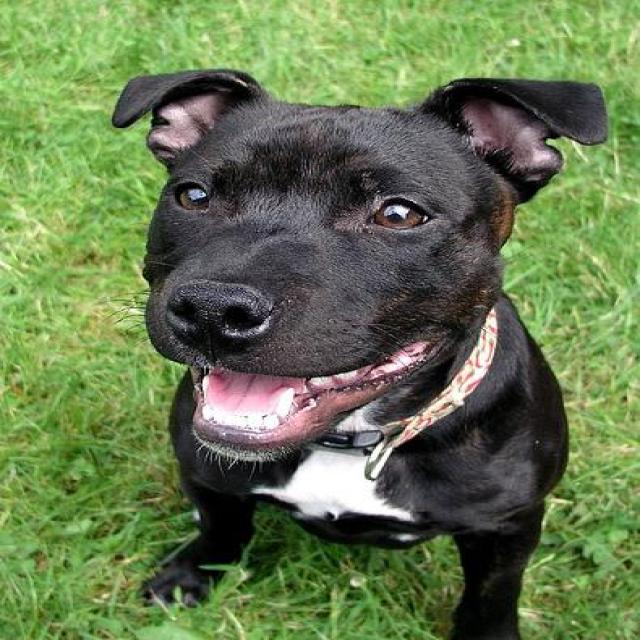staffordshire_bullterrier: (108, 67, 604, 638)
